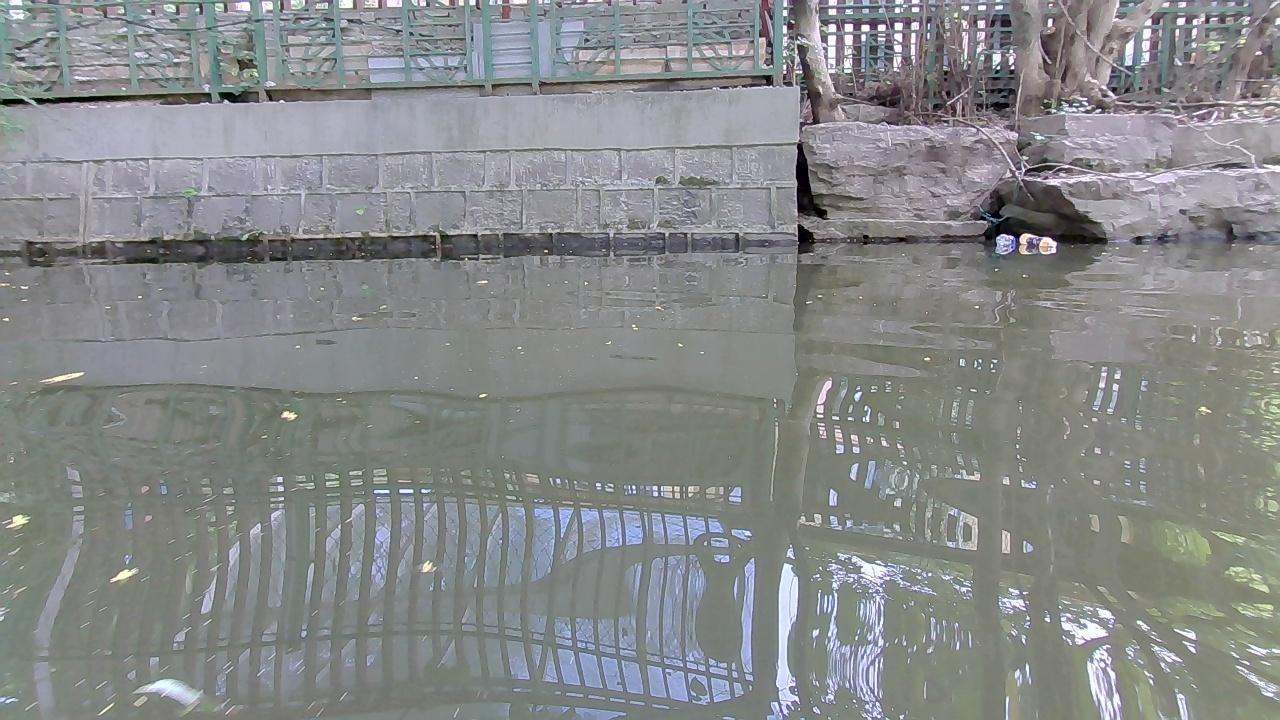bottle: (1021, 231, 1059, 249), (996, 234, 1012, 246)
